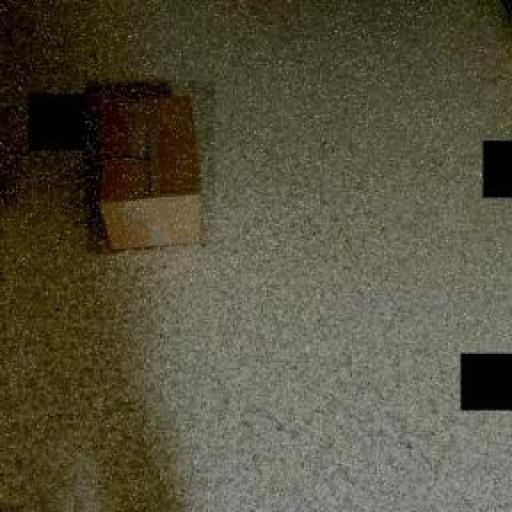box: (84, 81, 214, 255)
